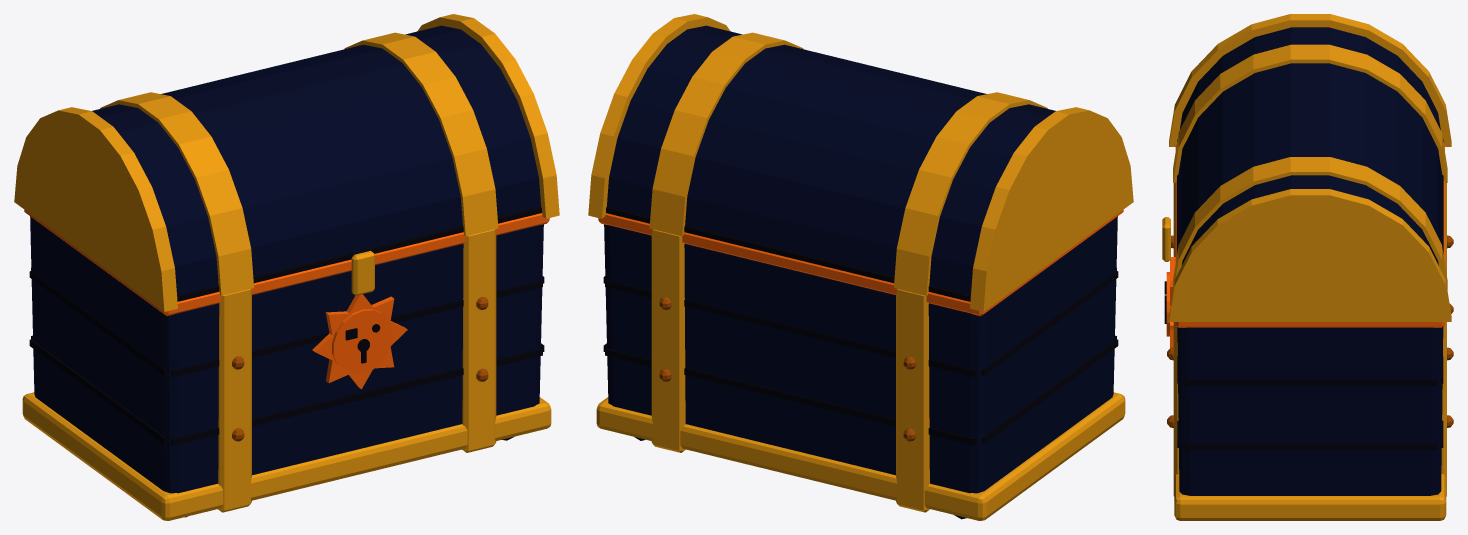
Rendered from grand_treasure_chest.three-web-toon.glb.
3 renders of one model, left to right at view 1: azimuth 30°, elevation 25°; view 2: azimuth 150°, elevation 25°; view 3: azimuth 270°, elevation 25°, orthographic. The views are drawn at different scales.
Parts seen in each view (by area): view 1: chest_body, chest_lid; view 2: chest_body, chest_lid; view 3: chest_lid, chest_body.
Boxes of the visible parts, left/top/right/bottom form: chest_body: left=22, top=210, right=551, bottom=520; chest_lid: left=14, top=14, right=559, bottom=311; chest_body: left=596, top=210, right=1125, bottom=520; chest_lid: left=588, top=14, right=1133, bottom=311; chest_lid: left=1162, top=14, right=1451, bottom=321; chest_body: left=1164, top=145, right=1453, bottom=520.
Size of the model in its own units: 2.17 by 1.91 by 1.48.
